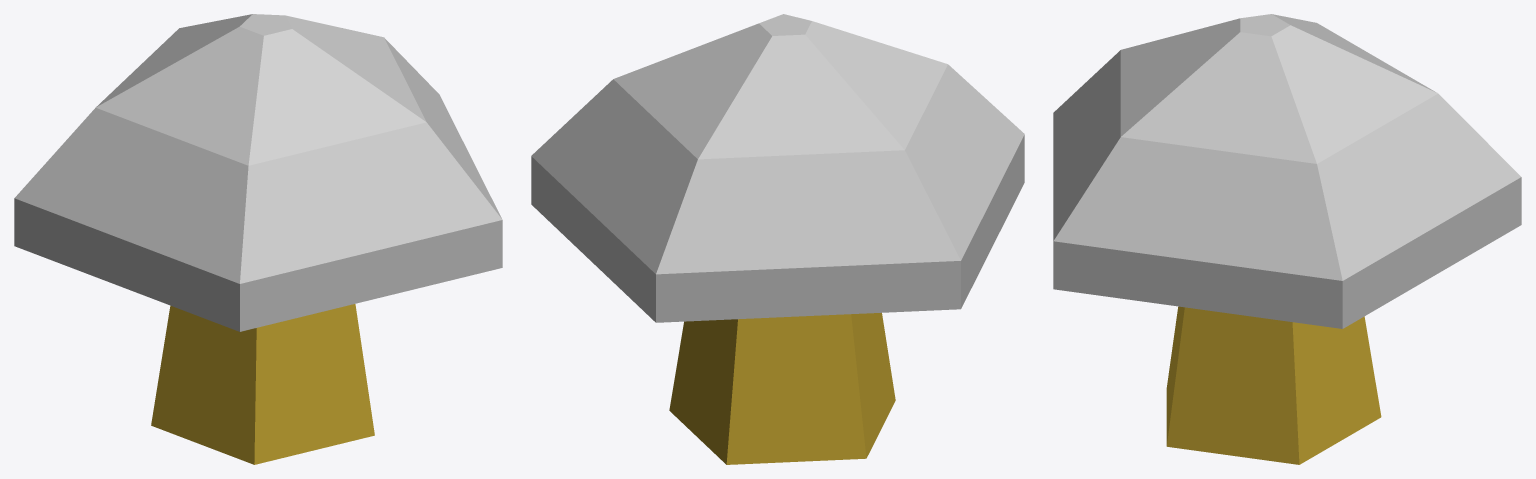
File: Mushroom_2_Snow.obj
3 renders of one model, left to right at view 1: azimuth 30°, elevation 25°; view 2: azimuth 150°, elevation 25°; view 3: azimuth 270°, elevation 25°, orthographic.
Parts seen in each view (by area): view 1: Mushroom_2_Snow_Cylinder.025; view 2: Mushroom_2_Snow_Cylinder.025; view 3: Mushroom_2_Snow_Cylinder.025.
Part boxes in pixels (x1,y1,x2,y2): Mushroom_2_Snow_Cylinder.025: [14, 14, 502, 464]; Mushroom_2_Snow_Cylinder.025: [531, 14, 1024, 464]; Mushroom_2_Snow_Cylinder.025: [1053, 14, 1521, 464].
Size of the model in its own units: 0.3911 by 0.3438 by 0.372.
